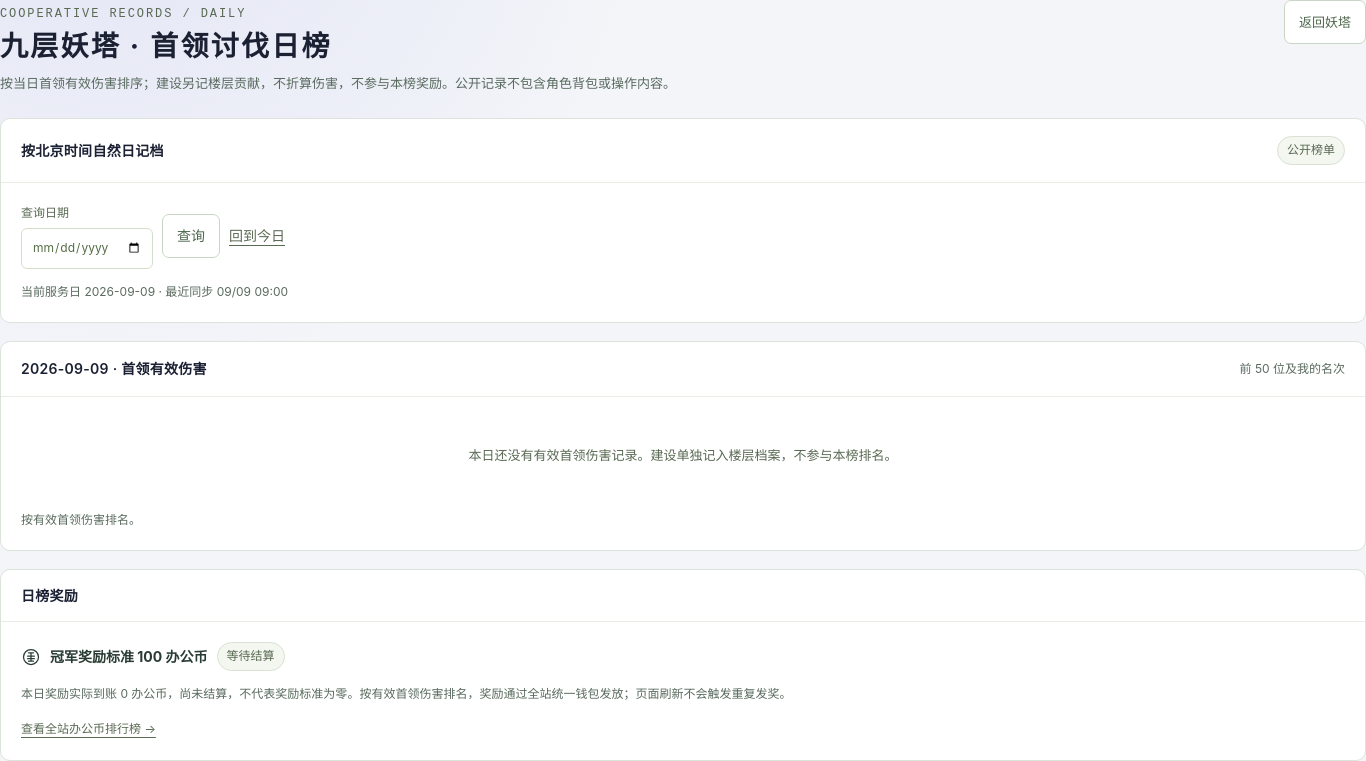
demon tower independent ranking and catalog reads › keeps a failed ranking warning when a parallel catalog retry succeeds later
The width and height of the screenshot is (1366, 761).
Check: the text "冠军奖励标准 100 办公币" is shown, box [50,645,208,668]
Click the button "查询" at {"x": 191, "y": 236}, box [162,214,220,258]
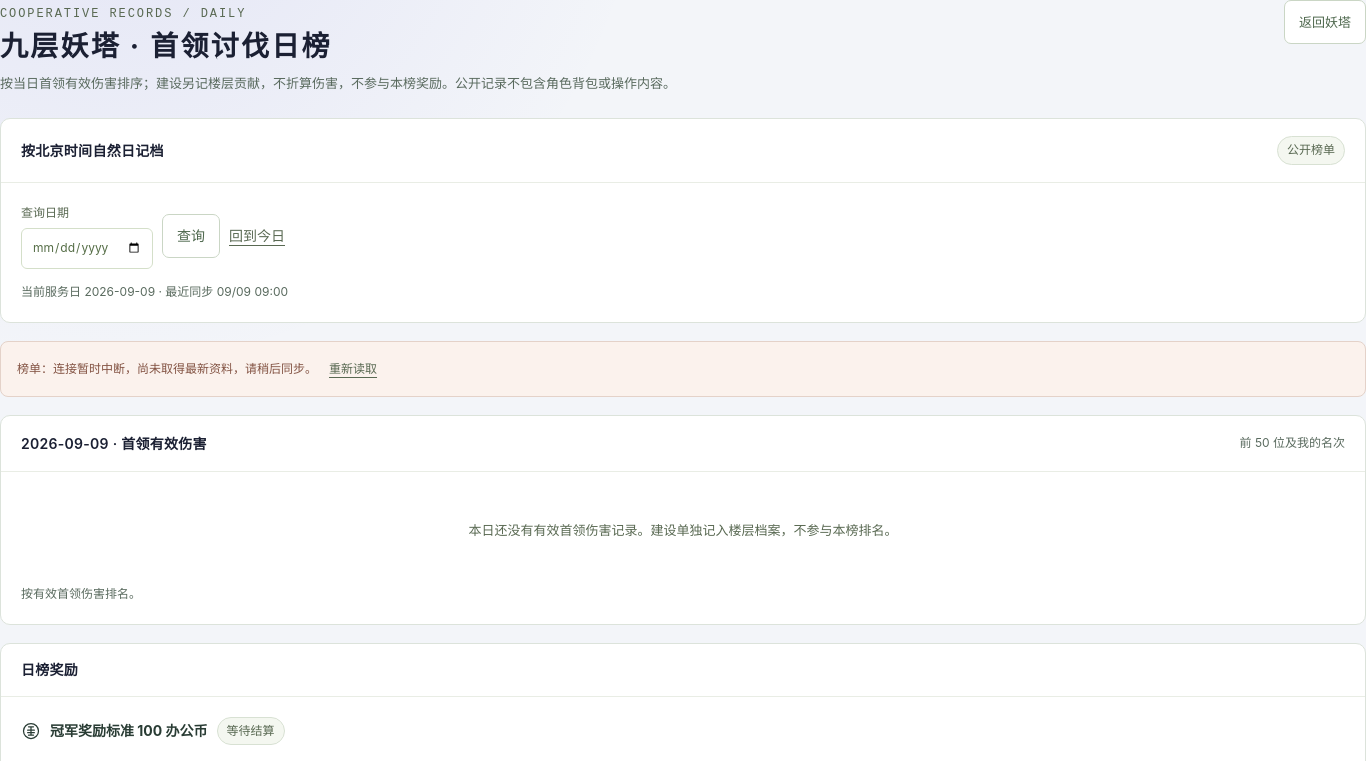
Check: the text "冠军奖励标准 100 办公币" is shown, box [50,719,208,743]
Check: the message "榜单：连接暂时中断，尚未取得最新资料，请稍后同步。 重新读取" is shown, box [0,341,1365,397]
Click the button "重新读取" at {"x": 353, "y": 369}, box [329,355,377,383]
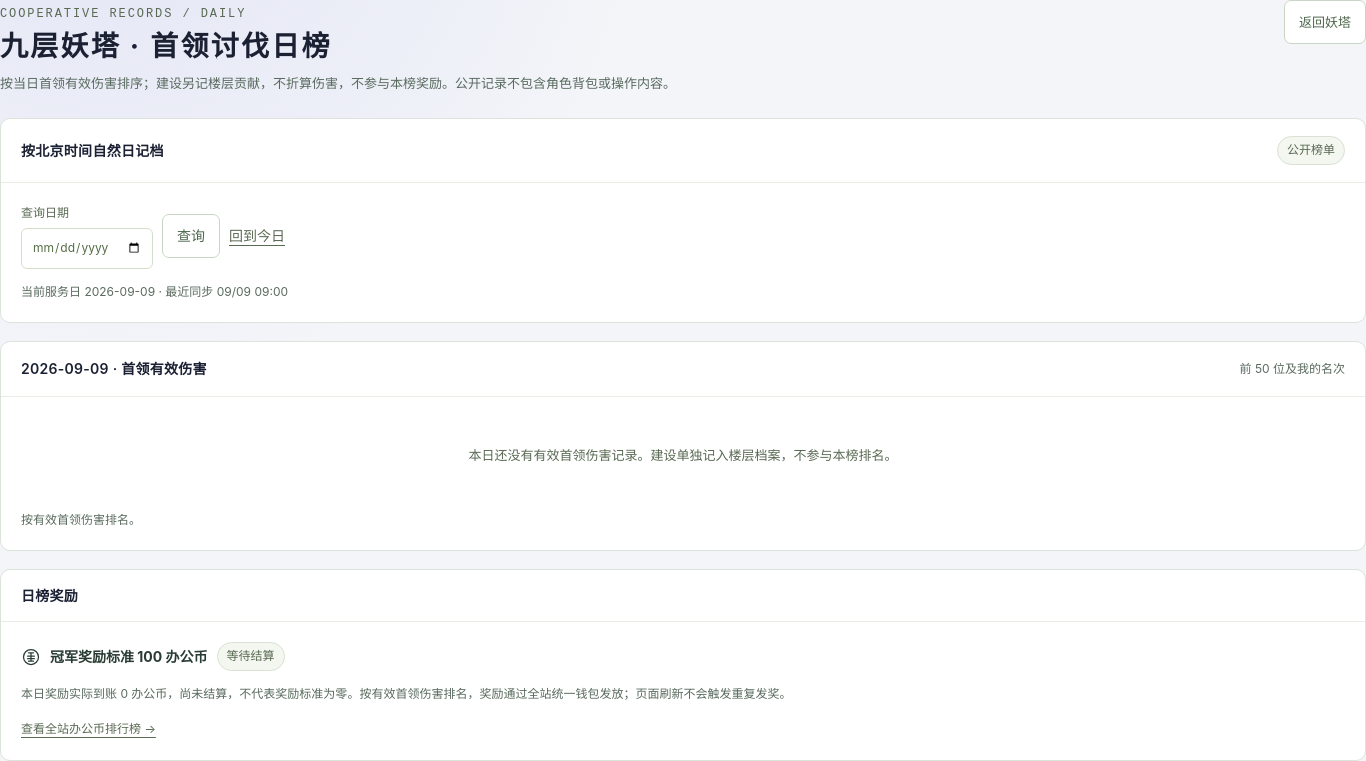
Check: the message "榜单：连接暂时中断，尚未取得最新资料，请稍后同步。 重新读取" is gone
